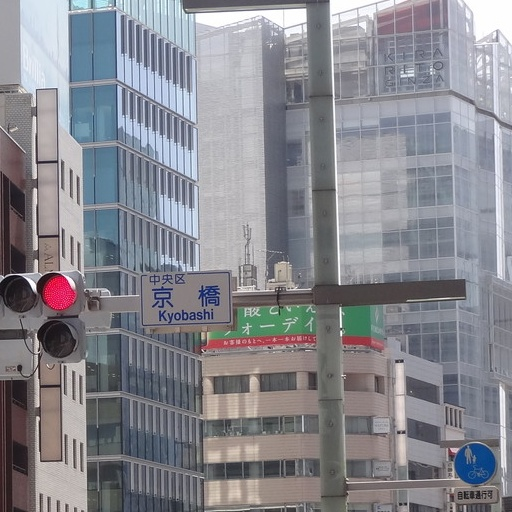Traffic_Signal_Red: (2, 269, 88, 311)
